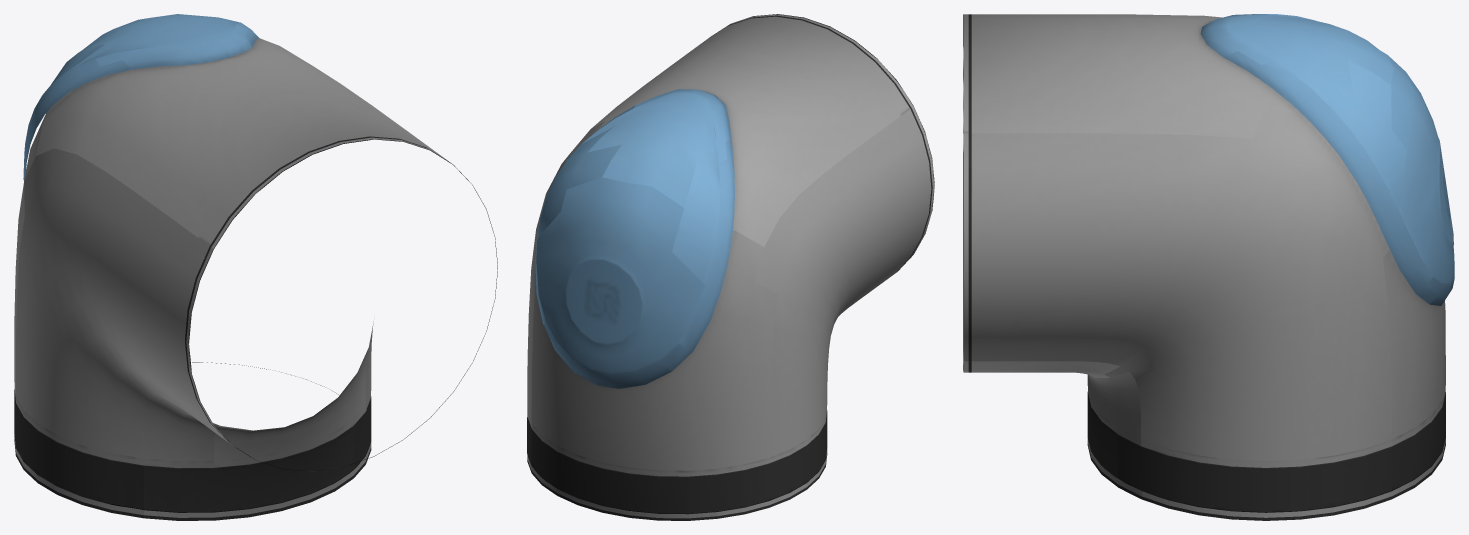
File: wrist_1_link.glb
3 views of the same model, side by side, from view 1: azimuth 30°, elevation 25°; view 2: azimuth 150°, elevation 25°; view 3: azimuth 270°, elevation 25° (orthographic). The views are drawn at different scales.
Parts seen in each view (by area): view 1: wrist-1-mesh_002, wrist-1-mesh_001, wrist-1-mesh_005; view 2: wrist-1-mesh_002, wrist-1-mesh_005, wrist-1-mesh_001; view 3: wrist-1-mesh_002, wrist-1-mesh_005, wrist-1-mesh_001.
Boxes of the visible parts, x1,y1,x2,y2 form: wrist-1-mesh_002: [14, 38, 497, 517]; wrist-1-mesh_001: [14, 136, 448, 520]; wrist-1-mesh_005: [23, 14, 258, 180]; wrist-1-mesh_002: [527, 14, 934, 518]; wrist-1-mesh_005: [535, 89, 734, 388]; wrist-1-mesh_001: [527, 15, 932, 520]; wrist-1-mesh_002: [963, 14, 1445, 517]; wrist-1-mesh_005: [1200, 14, 1454, 305]; wrist-1-mesh_001: [968, 14, 1445, 520].
Size of the model in its own units: 0.1001 by 0.1292 by 0.1371.
1 material, 1 textured.
